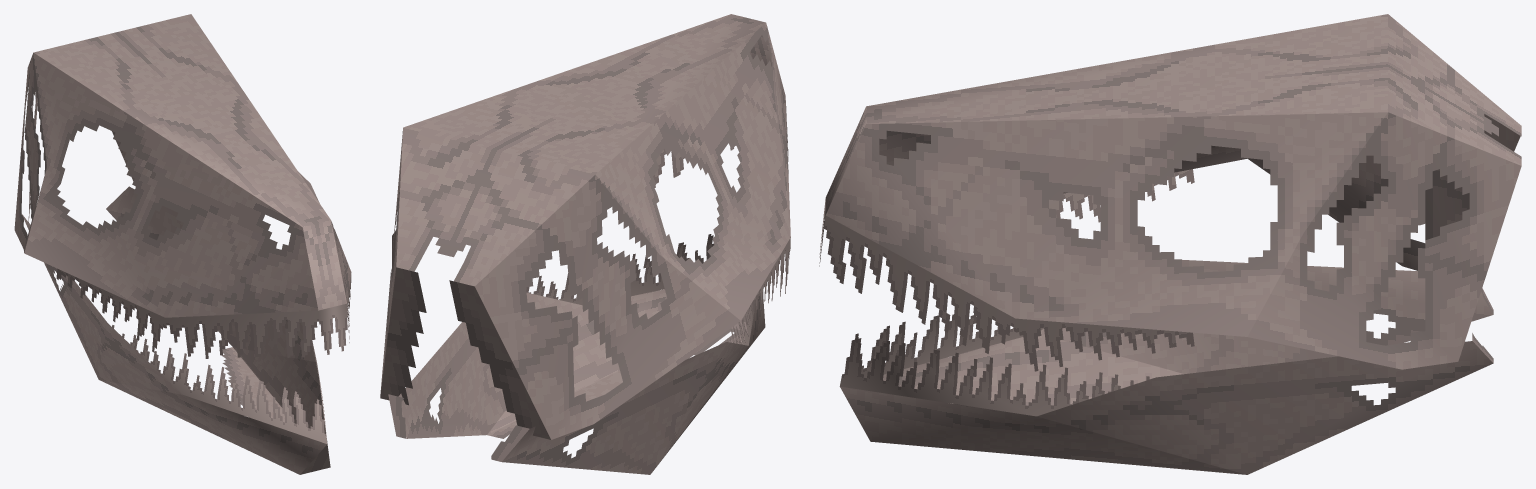
Rendered from 03a6_Fossil.glb.
3 views of the same model, side by side, from view 1: azimuth 30°, elevation 25°; view 2: azimuth 150°, elevation 25°; view 3: azimuth 270°, elevation 25° (orthographic). The views are drawn at different scales.
Parts seen in each view (by area): view 1: part_0; view 2: part_0; view 3: part_0.
Boxes of the visible parts, <box> form: part_0: <box>14,14,351,474</box>; part_0: <box>380,14,790,474</box>; part_0: <box>819,14,1521,474</box>.
Bounding box in the file's own units: 2.1 × 2.03 × 3.5.
Materials: 1 (1 with a texture image).
